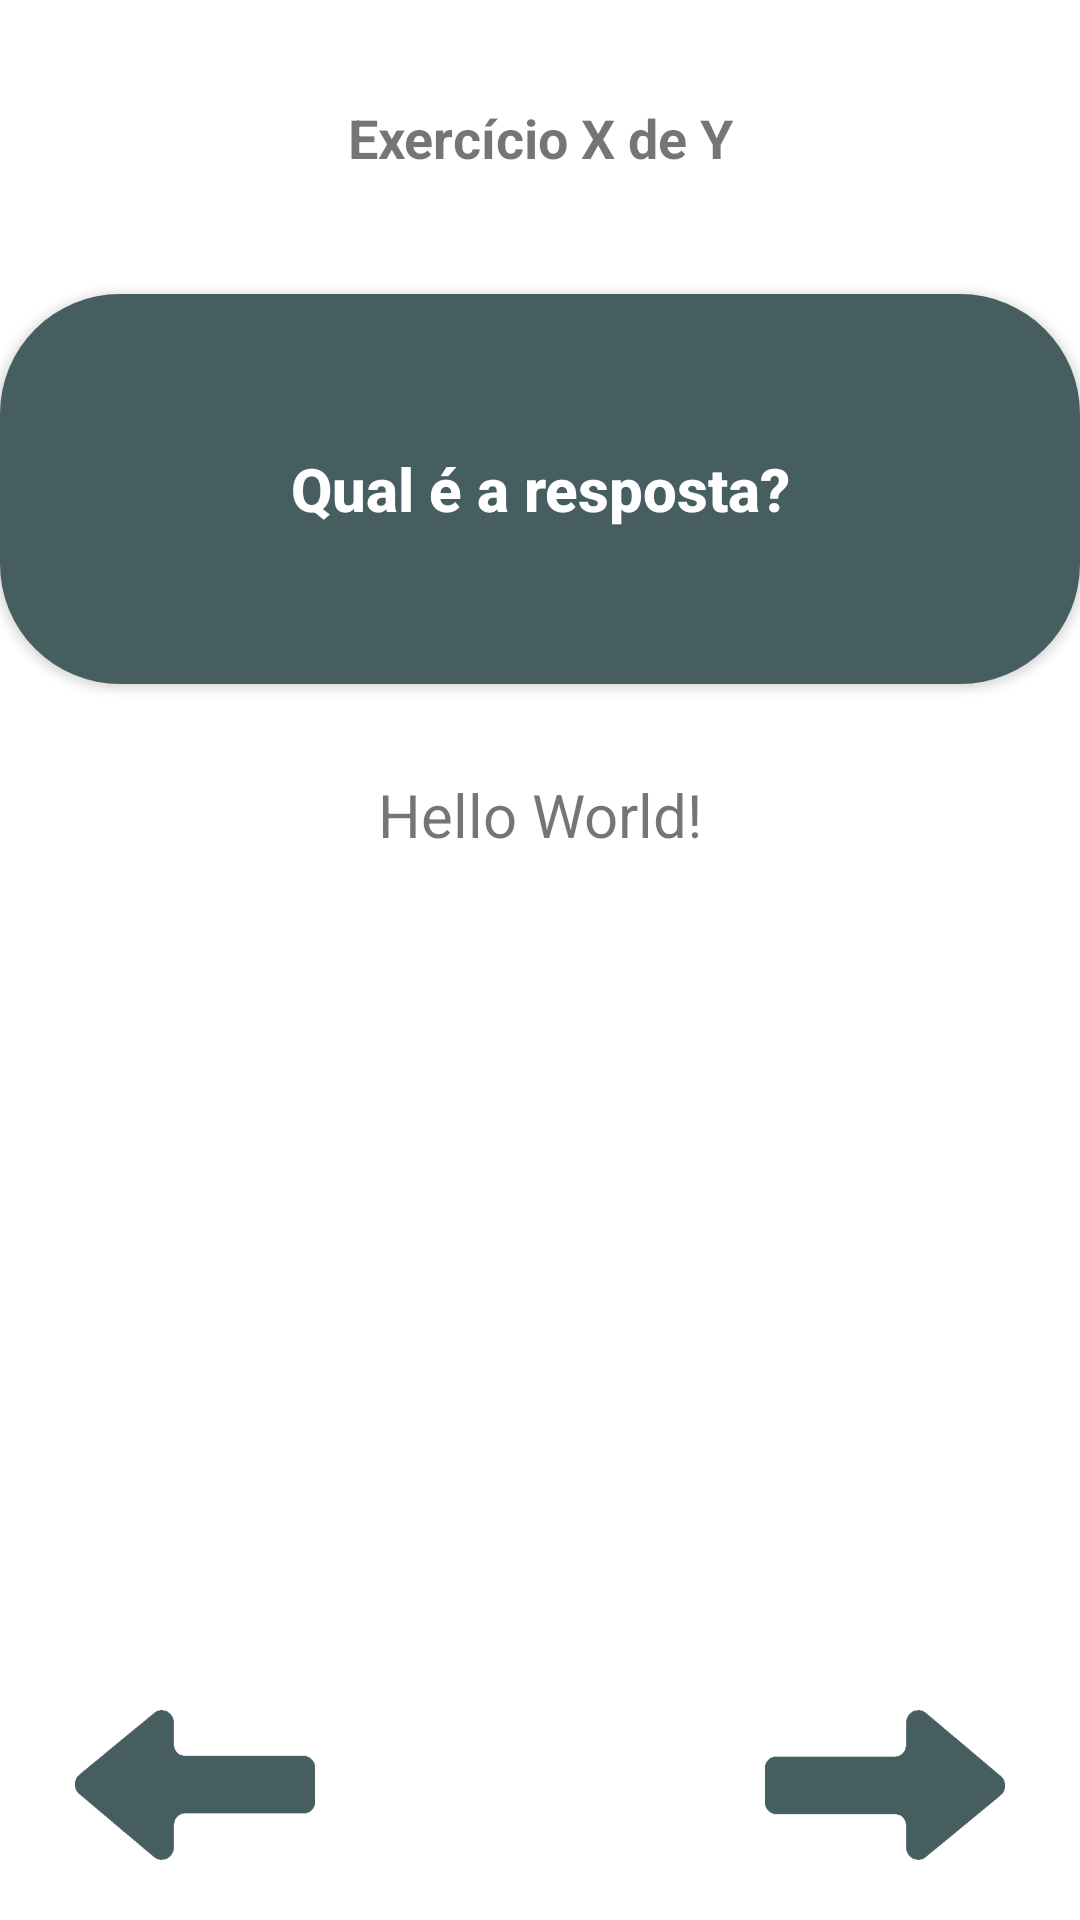

Icon click points for this 1080x1920 phone screenshot, format (x=x, y=y):
next: (x=885, y=1785)
prev: (x=195, y=1785)
